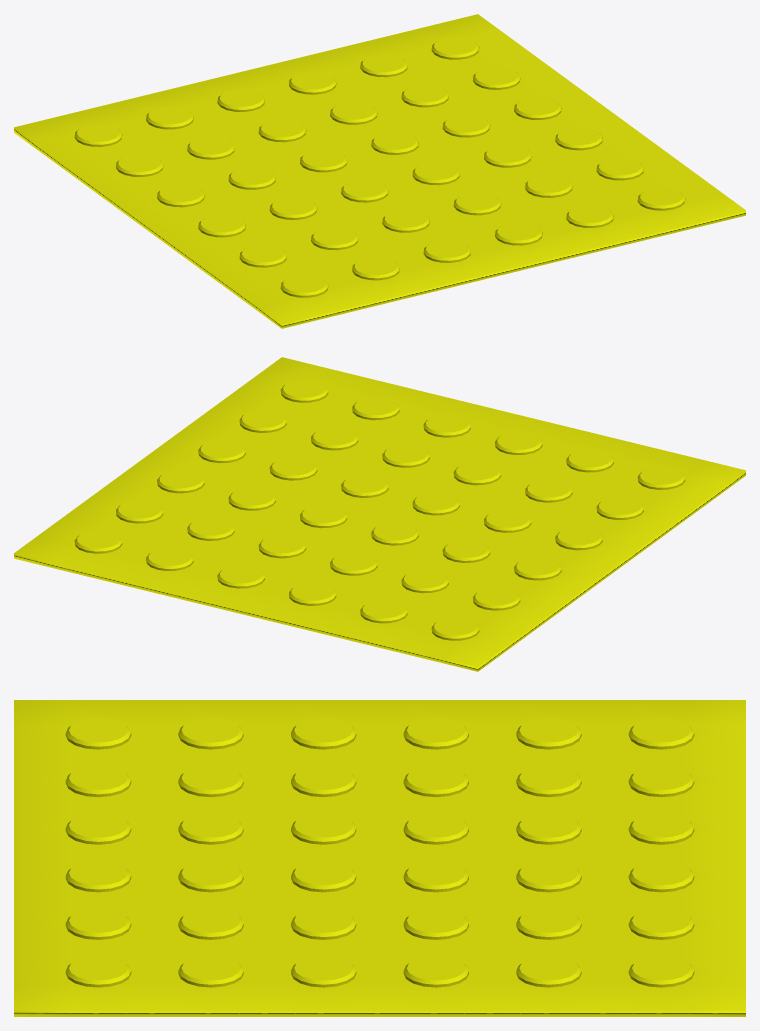
File: Guide bricks-positional Tactile.fbx
3 renders of one model, top to bottom at view 1: azimuth 30°, elevation 25°; view 2: azimuth 150°, elevation 25°; view 3: azimuth 270°, elevation 25°, orthographic. The views are drawn at different scales.
Parts seen in each view (by area): view 1: pCube1; view 2: pCube1; view 3: pCube1.
Boxes of the visible parts, x1=… form: pCube1: x1=14, y1=14, x2=745, y2=328; pCube1: x1=14, y1=357, x2=745, y2=671; pCube1: x1=14, y1=700, x2=745, y2=1016.
Size of the model in its own units: 5 by 0.099 by 5.
